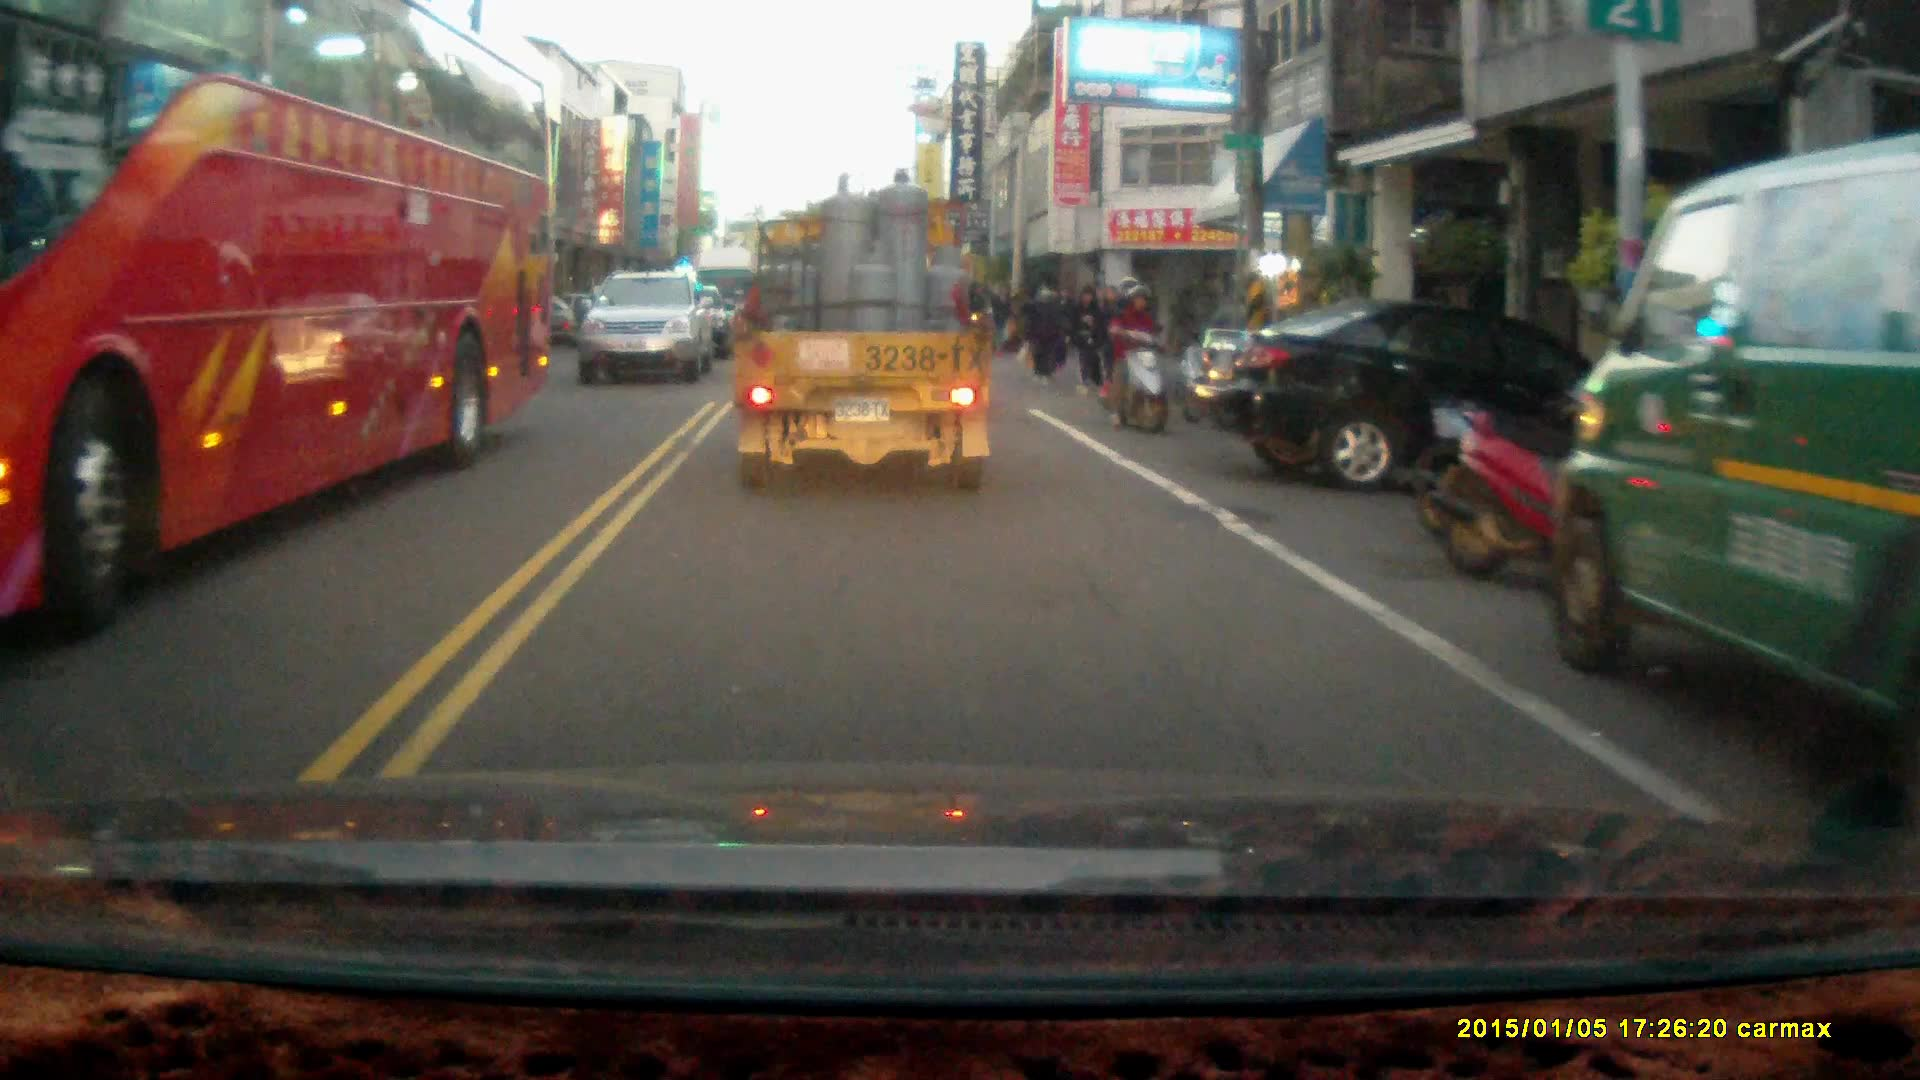pedestrian: (1068, 282, 1109, 398), (1023, 282, 1062, 381), (989, 286, 1013, 357)
rider: (1104, 274, 1170, 435)
vehicle: (1, 7, 562, 647), (1554, 129, 1920, 746), (1179, 302, 1663, 490), (729, 164, 999, 497), (577, 271, 713, 386)
